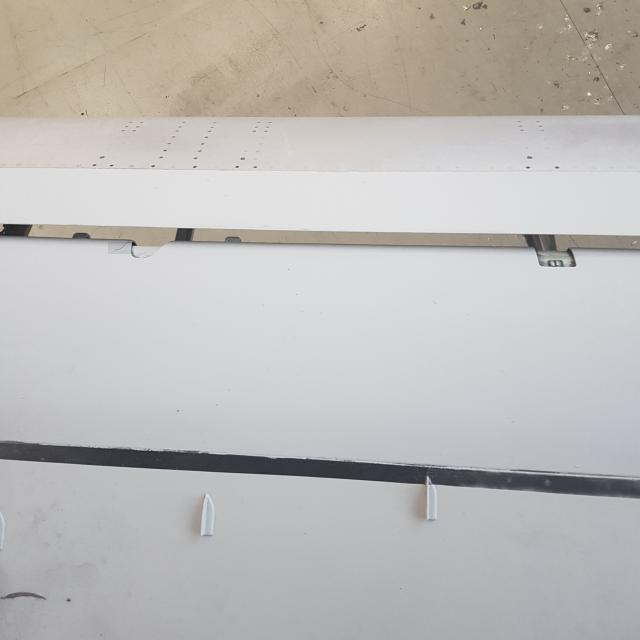crack: (110, 244, 136, 256)
